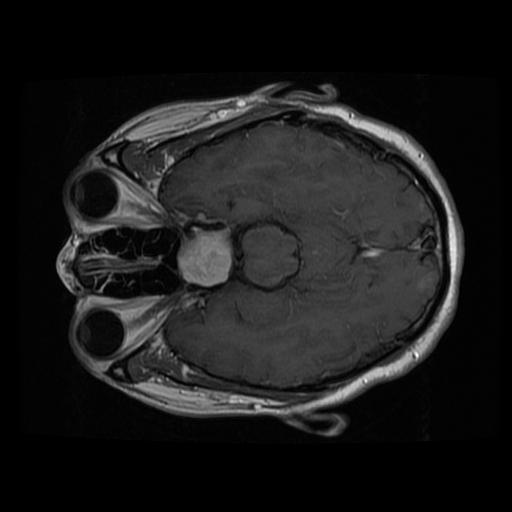pituitary tumour: (176, 229, 231, 286)
